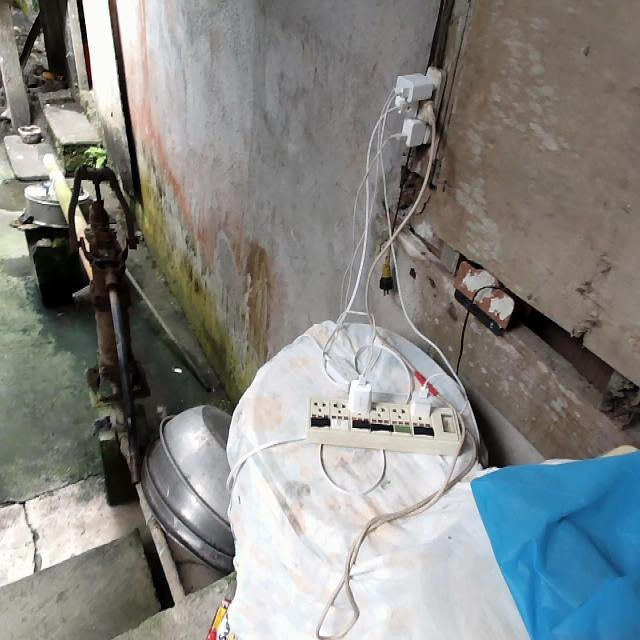-: (389, 62, 447, 150)
